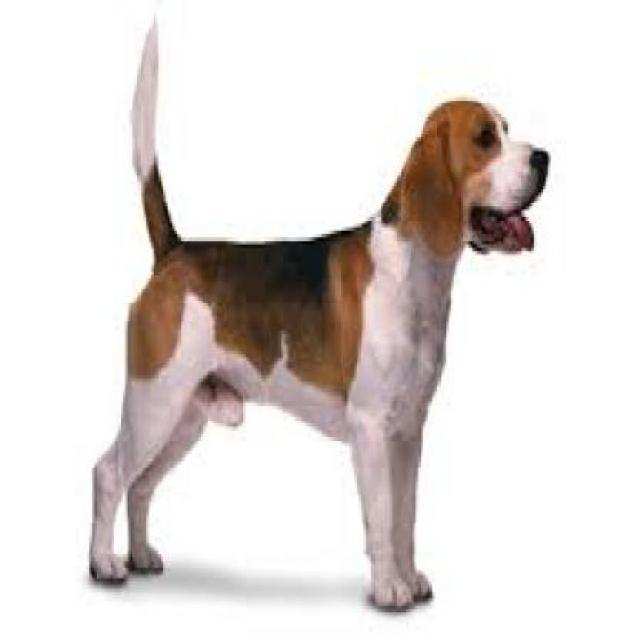Dog: (83, 11, 552, 615)
